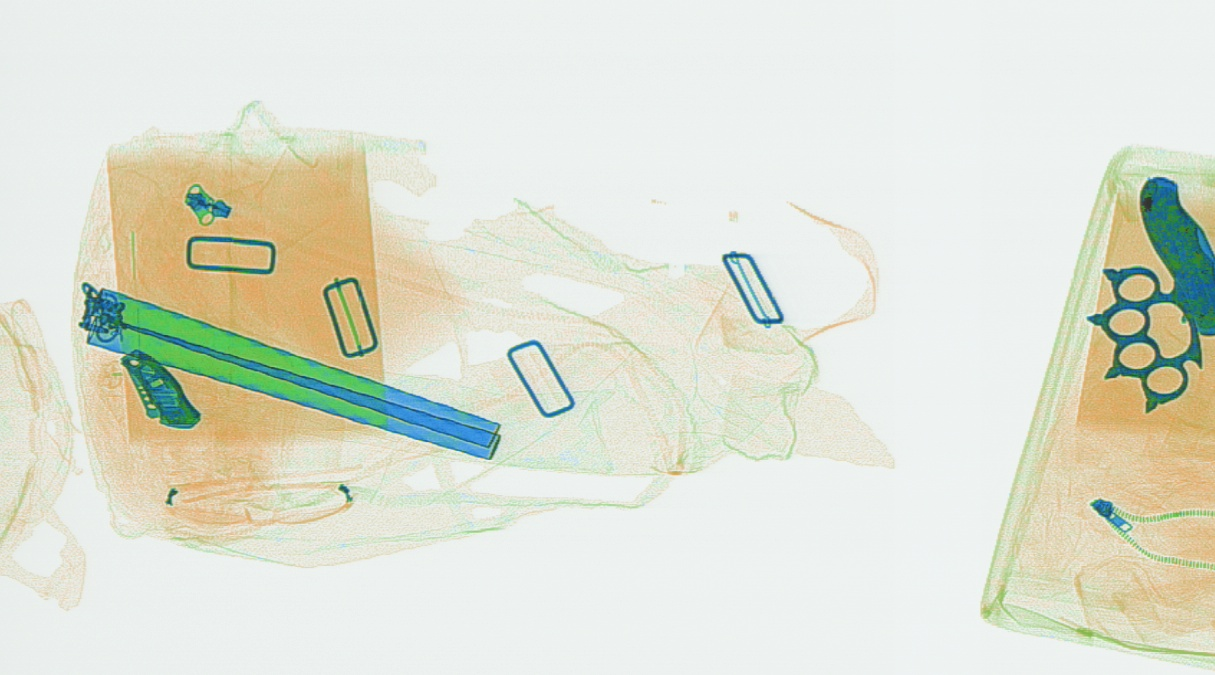knife: (1139, 171, 1210, 337), (117, 346, 200, 432)
